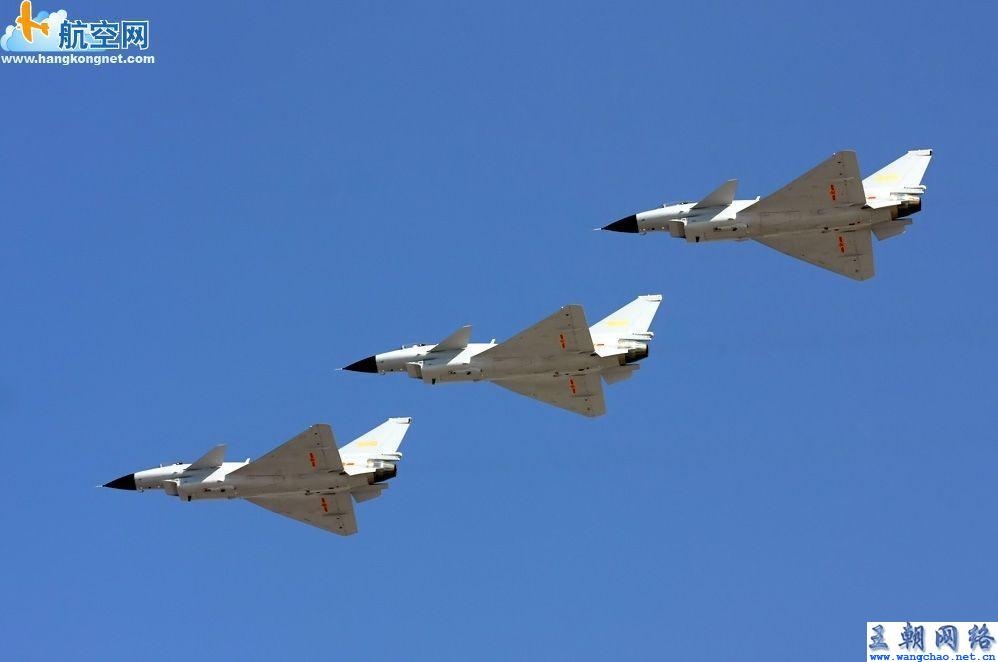airplane: (598, 143, 936, 283), (341, 288, 664, 417), (92, 410, 409, 538)
